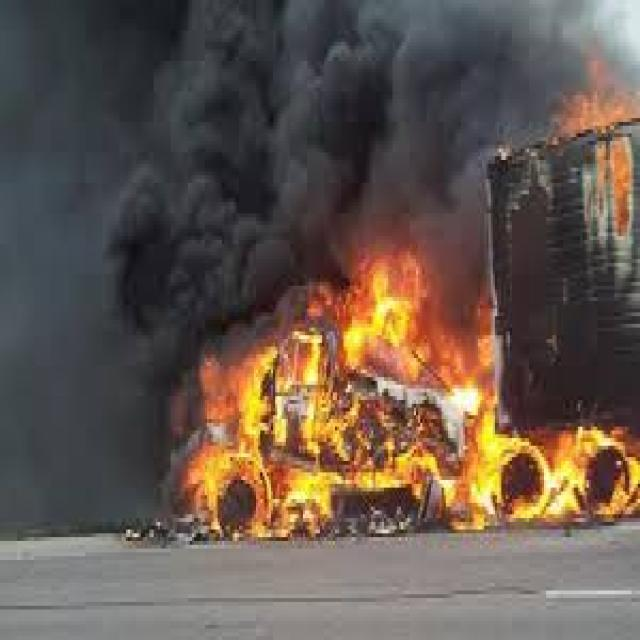Fire: (365, 272, 413, 342), (476, 417, 498, 490)
Smoke: (143, 28, 470, 246)
